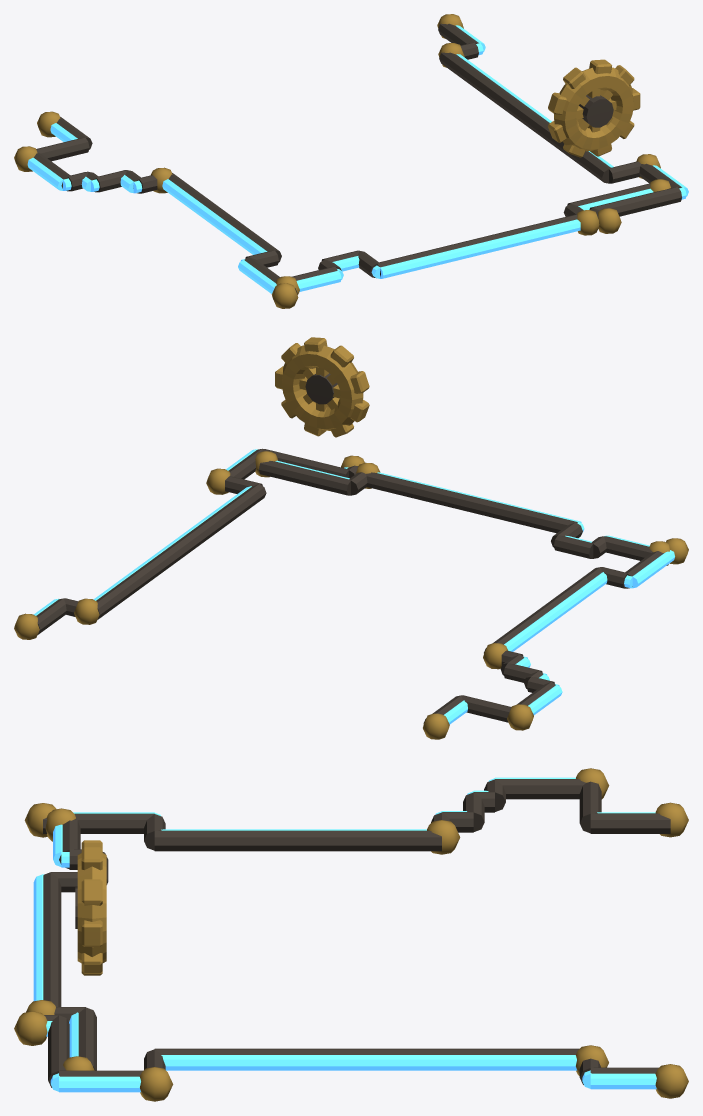
File: grenier-dress.glb
3 views of the same model, one above another, from view 1: azimuth 30°, elevation 25°; view 2: azimuth 150°, elevation 25°; view 3: azimuth 270°, elevation 25° (orthographic). The views are drawn at different scales.
Parts seen in each view (by area): view 1: grenier-dress; view 2: grenier-dress; view 3: grenier-dress.
Part boxes in pixels (<box>): grenier-dress: <box>14,14,688,308</box>; grenier-dress: <box>14,337,688,739</box>; grenier-dress: <box>14,768,688,1101</box>.
Bounding box in the file's own units: 1.77 × 0.5357 × 1.61.
